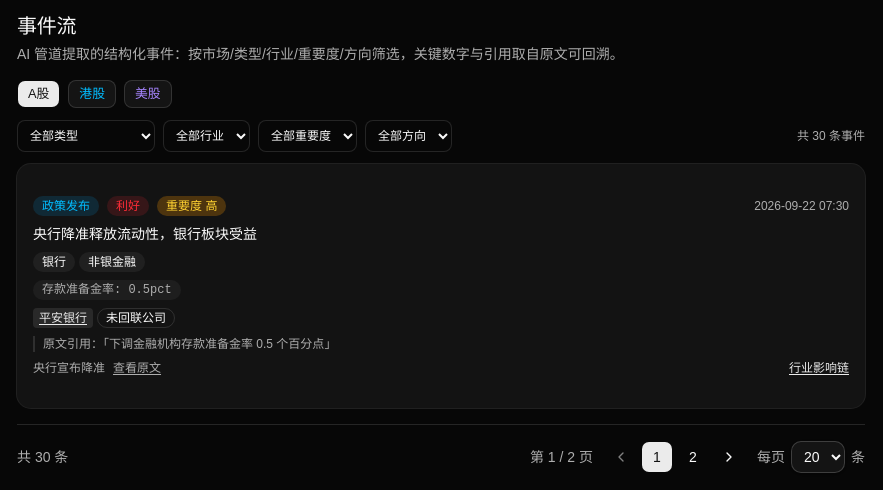
Test: Events 事件流页（T127 + T224 分页化，#/events） › 翻页：点击第 2 页 → page=2 请求，数据替换（非追加），页码指示与卡片联动
Check: the element with test id "event-card-9" is shown, box [17, 164, 865, 408]
Click the button with test id "events-pagination-page-2".
click(693, 457)  # box [677, 441, 709, 473]
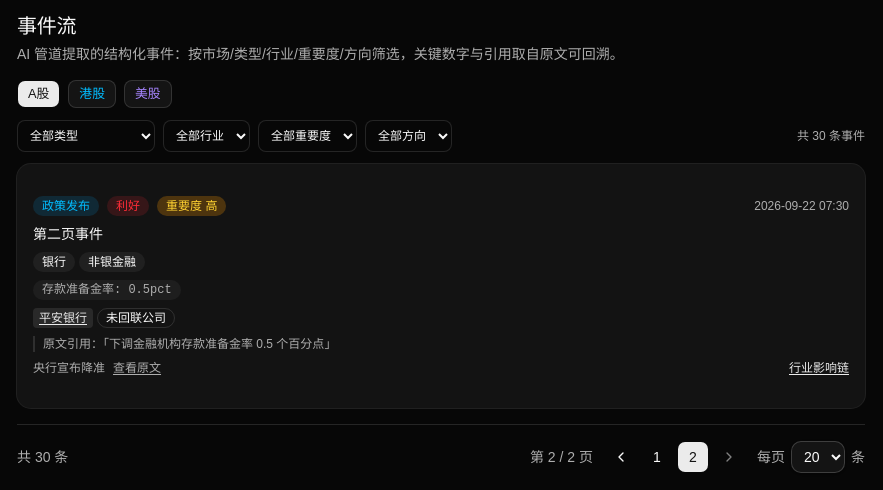
Check: the element with test id "event-card-8" is shown, box [17, 164, 865, 408]
Check: the element with test id "event-card-9" is gone
Check: the text with test id "events-pagination-page-indicator" shows "2 / 2", box [530, 447, 593, 467]
